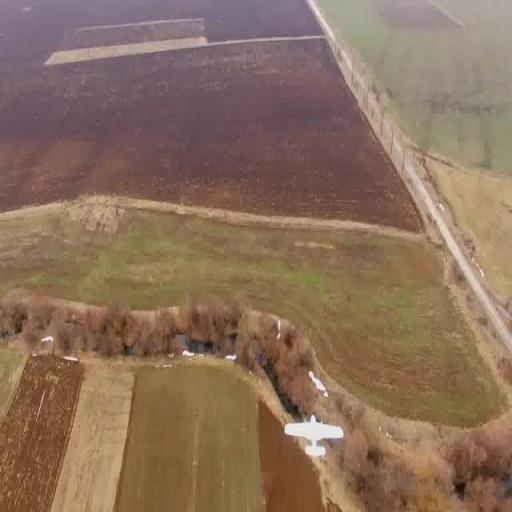uav: (280, 402, 346, 466)
